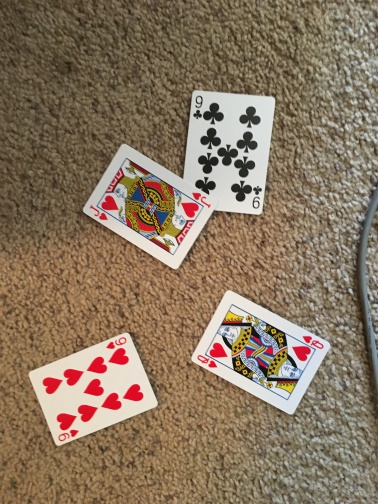jack: (83, 143, 216, 269)
nine: (29, 332, 159, 440), (185, 89, 276, 215)
queen: (189, 289, 332, 416)
